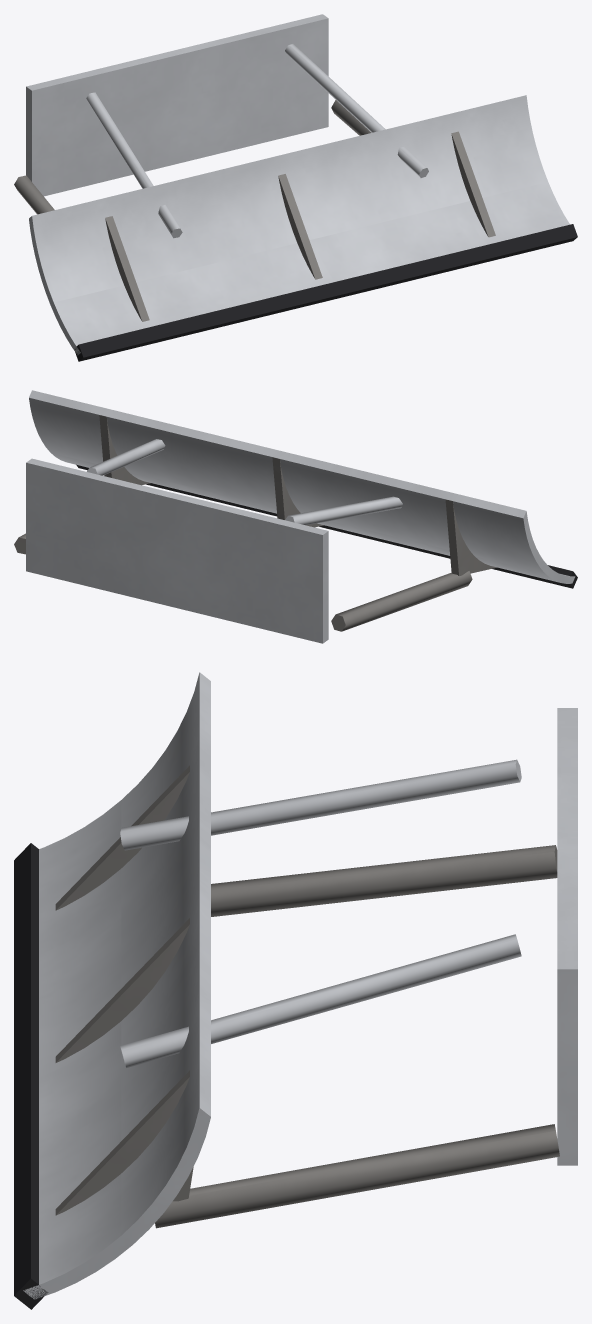
File: rover32_dozer_scoop_m_scoop.glb
3 renders of one model, top to bottom at view 1: azimuth 30°, elevation 25°; view 2: azimuth 150°, elevation 25°; view 3: azimuth 270°, elevation 25°, orthographic. The views are drawn at different scales.
Visible parts, largest first — view 1: blade, mount_plate, blade_edge, blade_ribs, arm_rams, arm_push; view 2: mount_plate, blade, blade_ribs, arm_push, arm_rams, blade_edge; view 3: blade, arm_push, arm_rams, blade_edge, blade_ribs, mount_plate.
Part boxes in pixels (x1=…): blade: x1=29, y1=95, x2=569, y2=355; mount_plate: x1=26, y1=14, x2=328, y2=196; blade_edge: x1=74, y1=224, x2=577, y2=361; blade_ribs: x1=105, y1=131, x2=495, y2=321; arm_rams: x1=86, y1=44, x2=428, y2=238; arm_push: x1=14, y1=100, x2=371, y2=214; mount_plate: x1=26, y1=458, x2=328, y2=643; blade: x1=29, y1=390, x2=575, y2=583; blade_ribs: x1=99, y1=415, x2=496, y2=575; arm_push: x1=14, y1=533, x2=472, y2=631; arm_rams: x1=87, y1=439, x2=402, y2=525; blade_edge: x1=76, y1=464, x2=577, y2=588; blade: x1=23, y1=672, x2=210, y2=1299; arm_push: x1=155, y1=845, x2=559, y2=1228; arm_rams: x1=120, y1=759, x2=521, y2=1067; blade_edge: x1=14, y1=843, x2=48, y2=1309; blade_ribs: x1=55, y1=765, x2=193, y2=1215; mount_plate: x1=557, y1=708, x2=577, y2=1165.
Size of the model in its own units: 2 by 0.5424 by 1.09.
3 materials, 2 textured.
